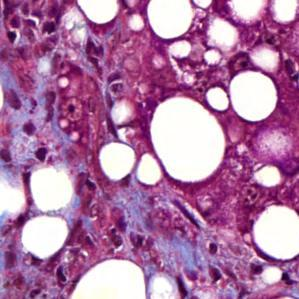steatosis: (143, 93, 229, 188), (225, 70, 282, 122), (250, 205, 299, 258)
